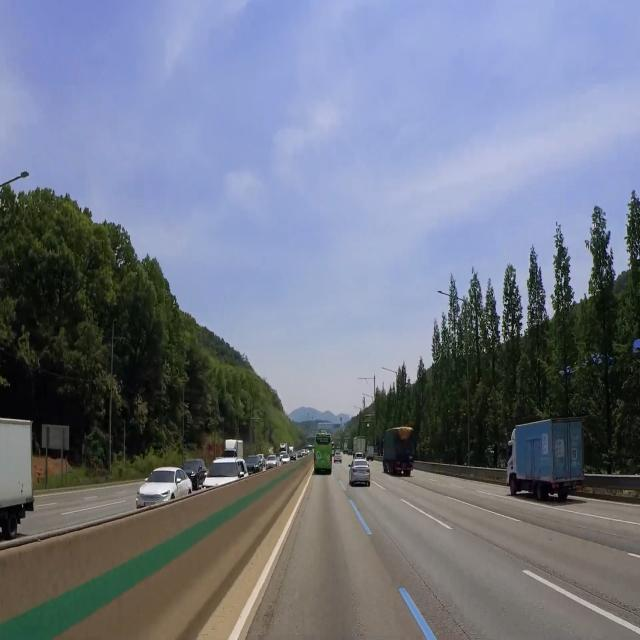car: (356, 467, 367, 480), (401, 462, 410, 476), (318, 460, 329, 469), (562, 481, 575, 488)
